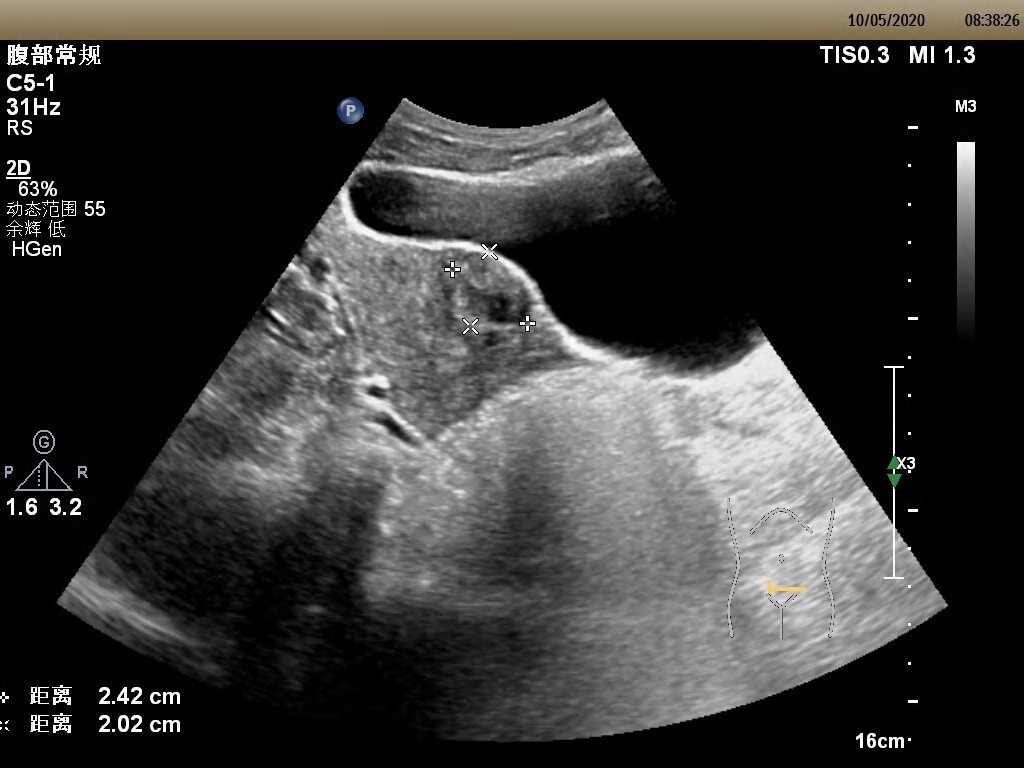肌瘤: (455, 252, 529, 326)
